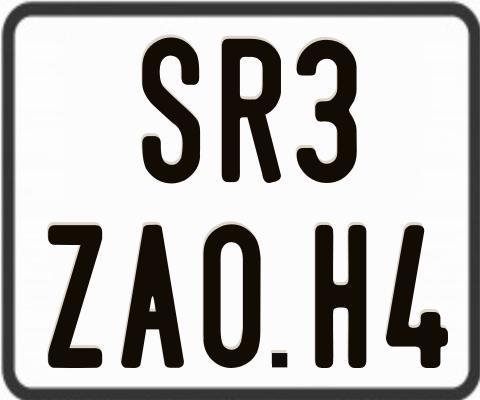0: (201, 222, 264, 367)
3: (295, 37, 358, 184)
4: (384, 224, 452, 369)
A: (120, 222, 188, 367)
H: (315, 223, 367, 367)
R: (220, 36, 280, 186)
S: (140, 34, 200, 186)
Z: (48, 223, 103, 372)
